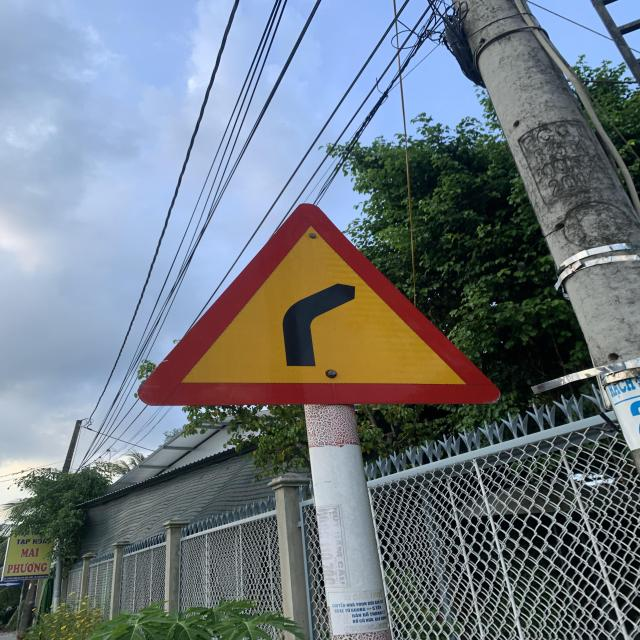Duong_Nguoi_Di_Bo_Cat_Ngang: (141, 202, 501, 404)
